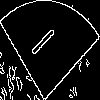I: (24, 25, 57, 64)
